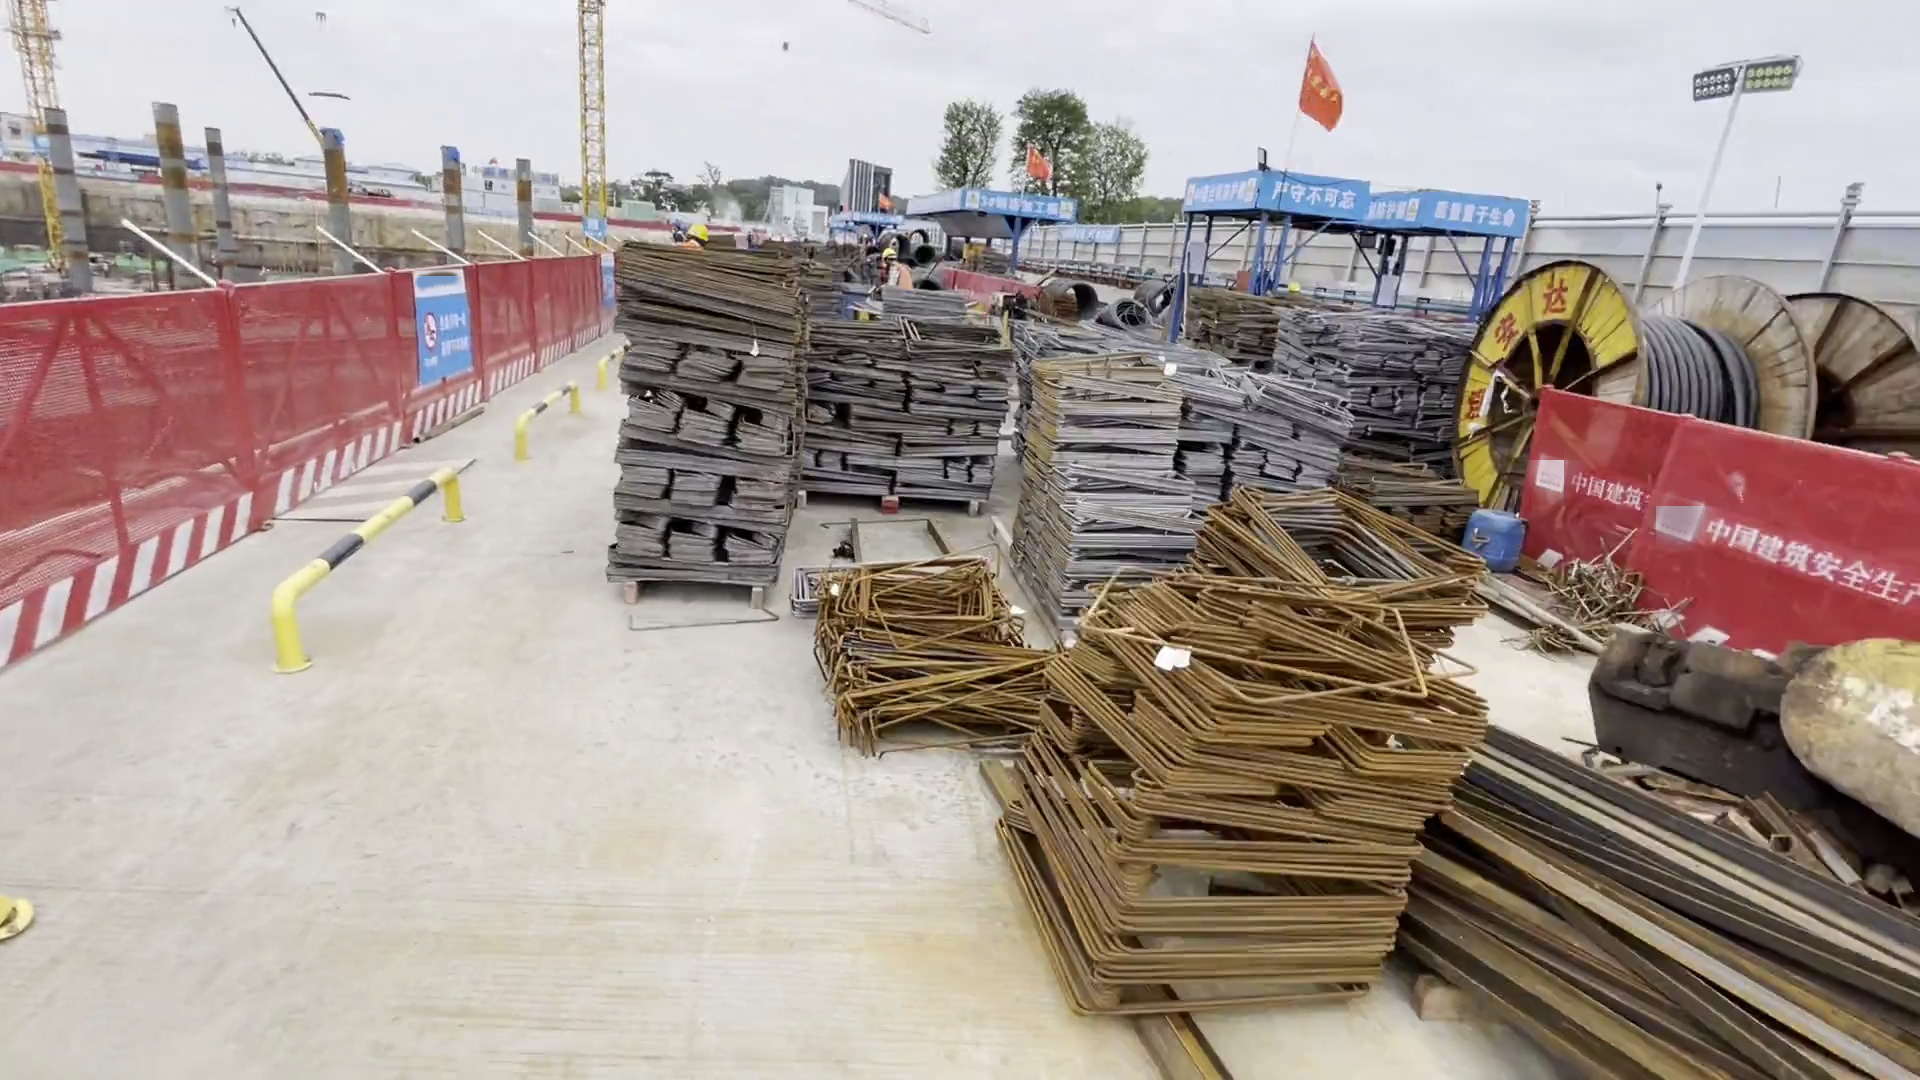fence: (1, 273, 412, 657), (1517, 390, 1920, 679), (464, 260, 644, 405)
helmet: (686, 224, 707, 239), (881, 248, 897, 262)
person: (875, 246, 913, 293)
slogan: (1432, 197, 1515, 235), (1270, 178, 1358, 211)
vest: (896, 266, 913, 293)
